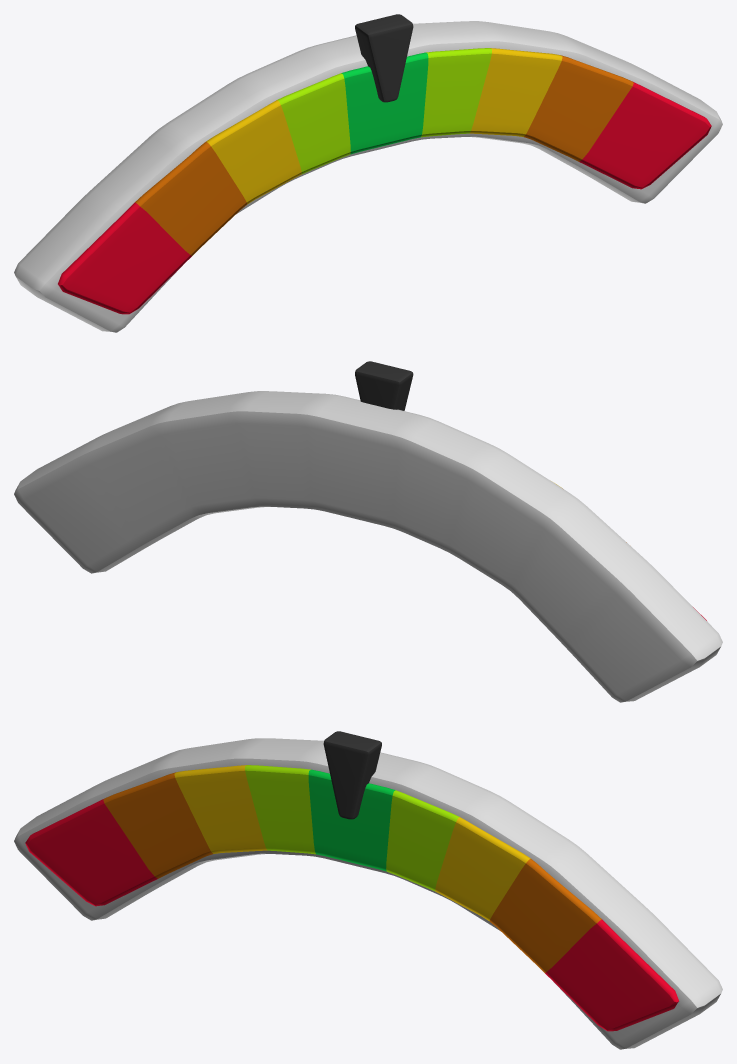
File: indicator_Curved.fbx
3 renders of one model, top to bottom at view 1: azimuth 30°, elevation 25°; view 2: azimuth 150°, elevation 25°; view 3: azimuth 330°, elevation 25°, orthographic.
Visible parts, largest first — view 1: pCube9, pCube8; view 2: pCube9, pCube8; view 3: pCube9, pCube8.
Part boxes in pixels (left/top/right/bottom): pCube9: left=14, top=21, right=722, bottom=332; pCube8: left=355, top=14, right=413, bottom=102; pCube9: left=14, top=391, right=722, bottom=702; pCube8: left=355, top=361, right=413, bottom=410; pCube9: left=14, top=738, right=722, bottom=1049; pCube8: left=323, top=731, right=381, bottom=819.
Bounding box in the file's own units: 288 × 99.83 × 28.48.
